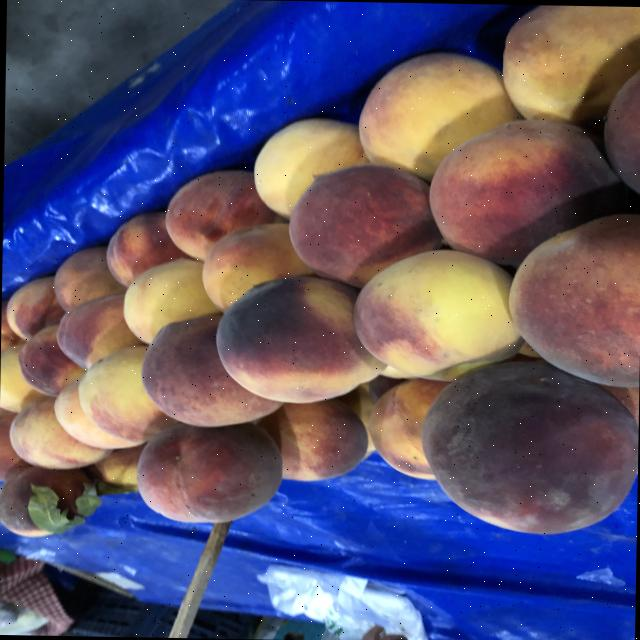peach: (420, 359, 638, 533), (429, 119, 639, 265), (508, 213, 640, 386), (353, 248, 523, 379), (215, 275, 385, 401), (288, 163, 441, 286), (140, 314, 282, 425), (136, 422, 281, 521), (165, 169, 282, 258), (201, 222, 312, 310), (78, 344, 176, 443), (258, 398, 367, 479), (55, 291, 141, 367)
